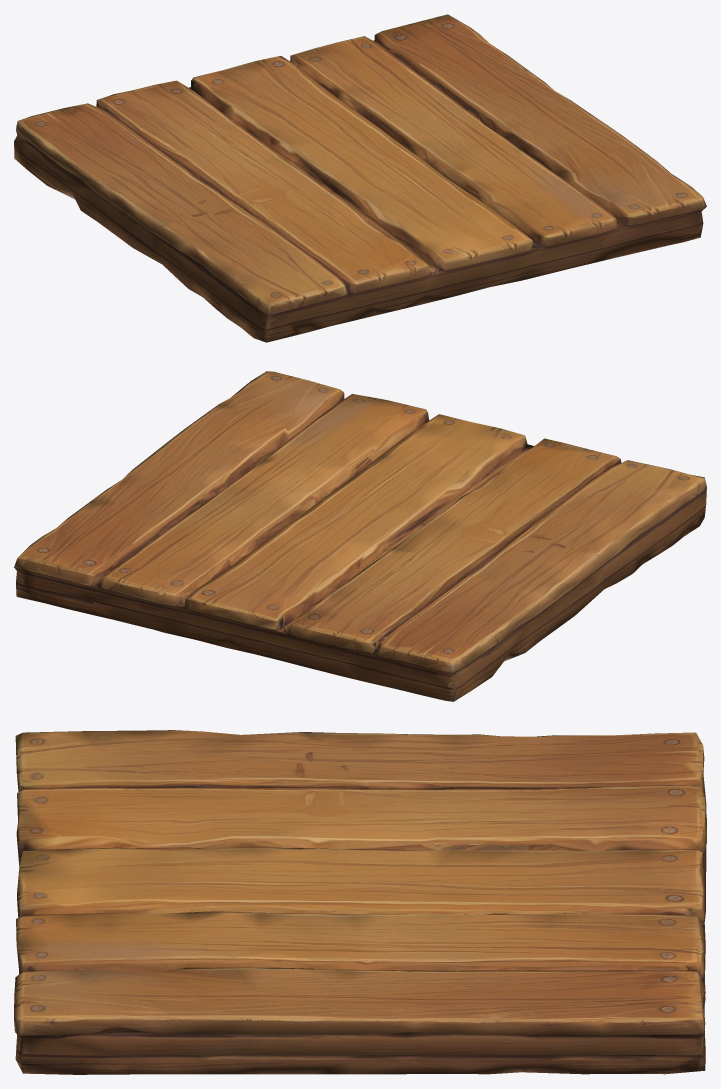
File: SM_Env_FloorTile.fbx
3 views of the same model, one above another, from view 1: azimuth 30°, elevation 25°; view 2: azimuth 150°, elevation 25°; view 3: azimuth 270°, elevation 25° (orthographic). The views are drawn at different scales.
Parts seen in each view (by area): view 1: SM_Env_FloorTile; view 2: SM_Env_FloorTile; view 3: SM_Env_FloorTile.
Boxes of the visible parts, x1,y1,x2,y2 form: SM_Env_FloorTile: (14, 14, 706, 342); SM_Env_FloorTile: (14, 371, 706, 701); SM_Env_FloorTile: (14, 730, 706, 1074).
Size of the model in its own units: 2 by 0.2 by 2.
